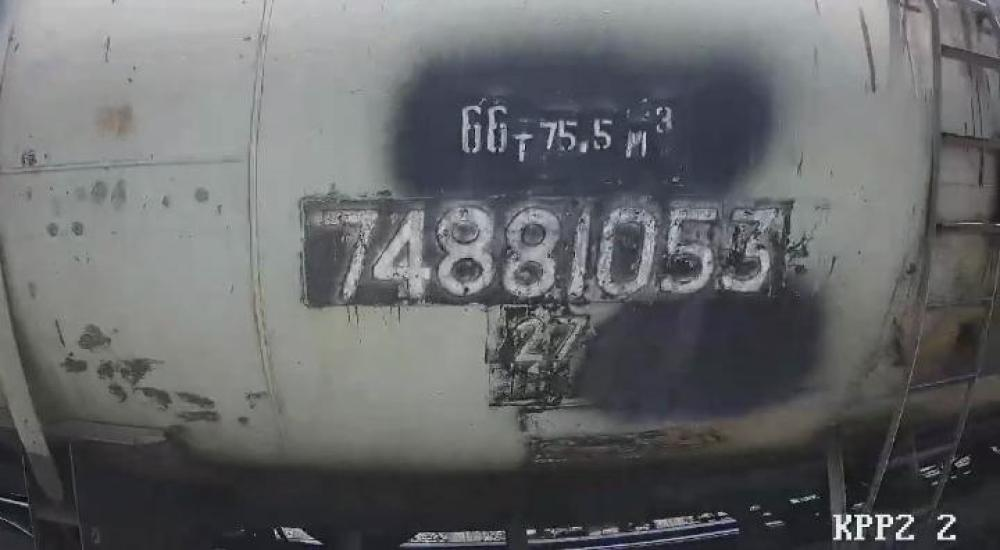Wagon-number: (311, 201, 773, 300)
